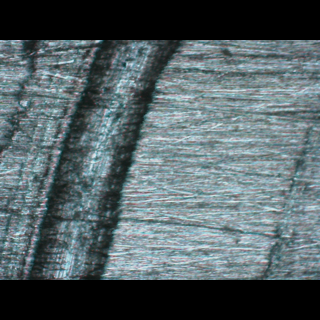d: (0, 39, 192, 279)
